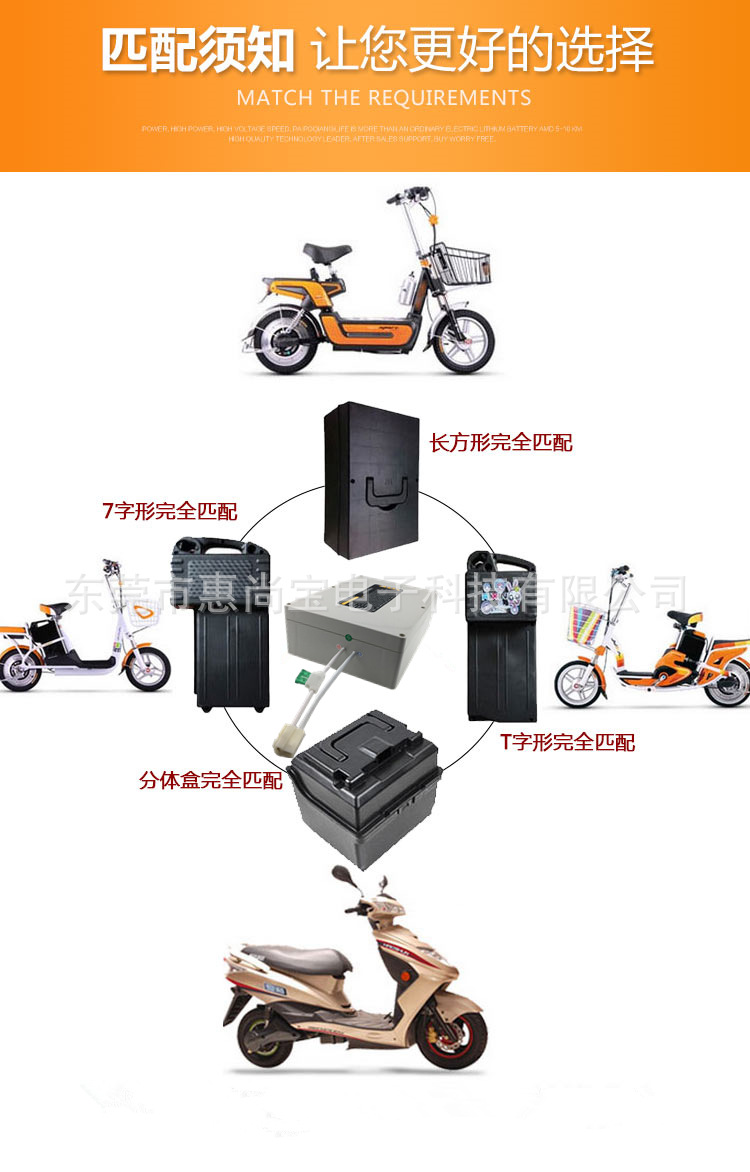电动车: (209, 865, 496, 1074), (246, 174, 512, 390), (544, 560, 750, 717), (1, 555, 177, 696)
